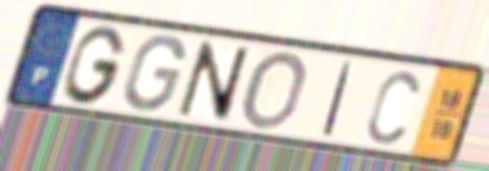C: (364, 67, 422, 147)
G: (61, 23, 129, 107), (121, 32, 188, 115)
I: (319, 58, 357, 140)
N: (175, 38, 252, 125)
O: (238, 47, 310, 132)
